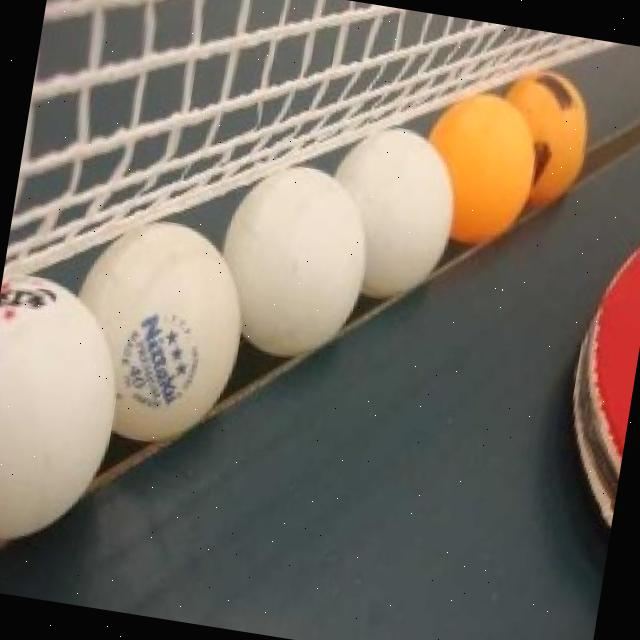ping-pong-ball: (60, 212, 256, 456), (0, 272, 136, 555), (208, 157, 379, 367), (312, 122, 464, 304), (412, 85, 542, 252), (484, 64, 600, 216)
